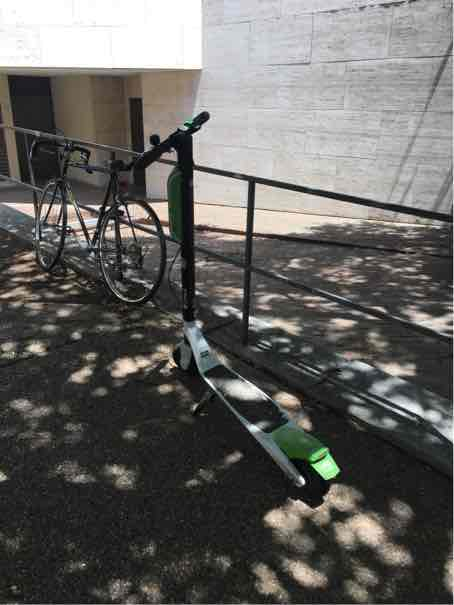scooter: (113, 94, 340, 489)
